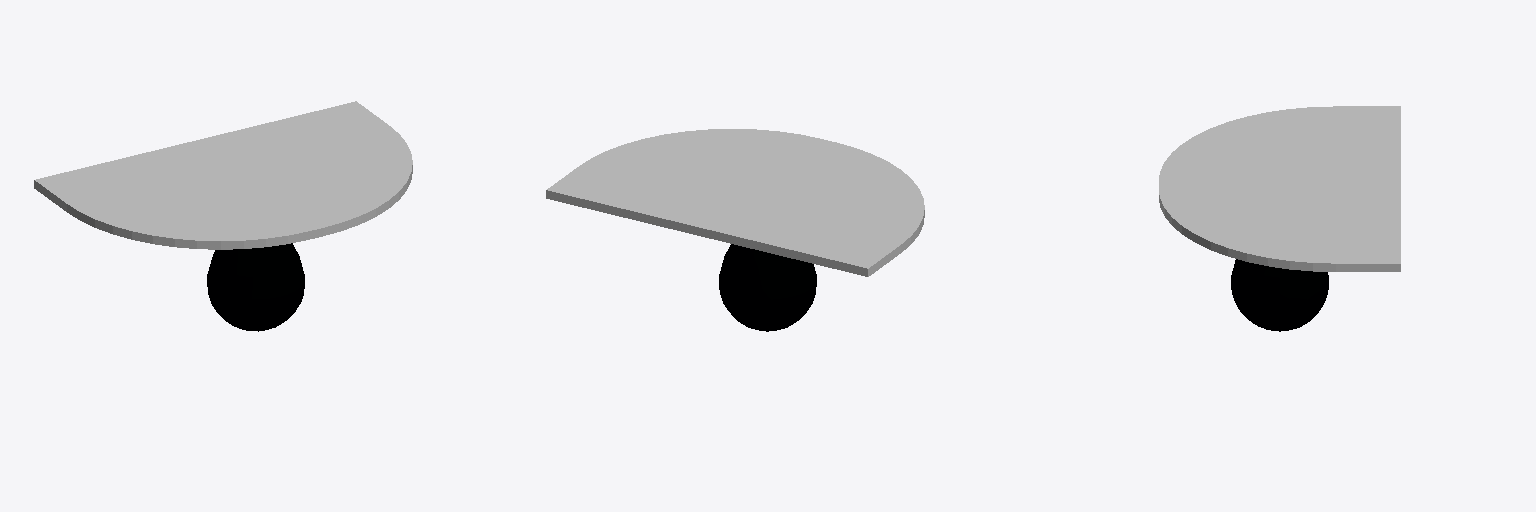
The model's file is punch-ball.obj.
The picture shows the model from 3 angles: view 1: azimuth 30°, elevation 25°; view 2: azimuth 150°, elevation 25°; view 3: azimuth 270°, elevation 25°; orthographic projection.
Visible parts, largest first — view 1: Sphere.001_Sphere.006, Sphere_Sphere.005; view 2: Sphere.001_Sphere.006, Sphere_Sphere.005; view 3: Sphere.001_Sphere.006, Sphere_Sphere.005.
Part boxes in pixels (bbox=[...]): Sphere.001_Sphere.006: bbox=[34, 101, 412, 249]; Sphere_Sphere.005: bbox=[207, 243, 304, 331]; Sphere.001_Sphere.006: bbox=[546, 129, 924, 276]; Sphere_Sphere.005: bbox=[719, 244, 816, 331]; Sphere.001_Sphere.006: bbox=[1159, 106, 1400, 271]; Sphere_Sphere.005: bbox=[1231, 259, 1328, 331].
Size of the model in its own units: 7.54 by 3.17 by 4.92.